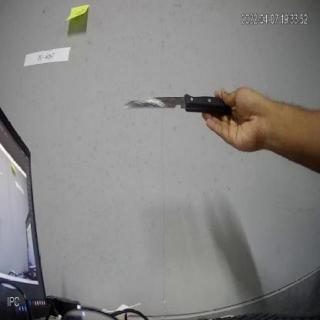knife: (117, 79, 233, 119)
